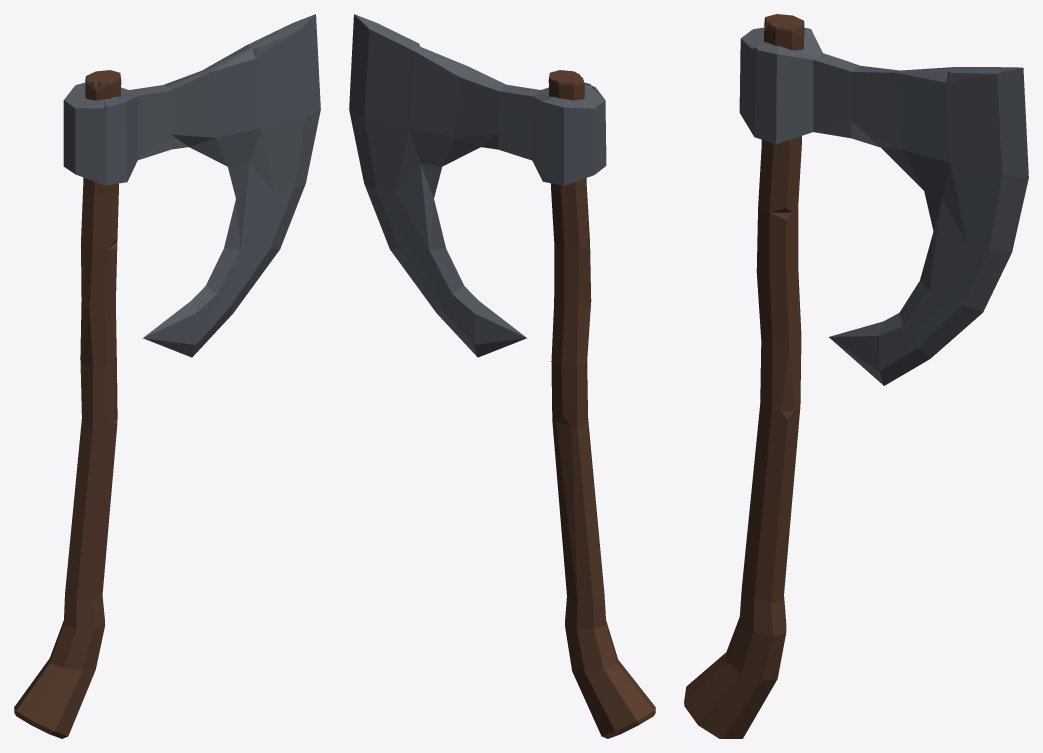
Rendered from Battle_Axe Village.fbx.
3 views of the same model, side by side, from view 1: azimuth 30°, elevation 25°; view 2: azimuth 150°, elevation 25°; view 3: azimuth 330°, elevation 25° (orthographic). The views are drawn at different scales.
Visible parts, largest first — view 1: Battle_Axe; view 2: Battle_Axe; view 3: Battle_Axe.
Boxes of the visible parts, x1=… form: Battle_Axe: x1=14, y1=14, x2=320, y2=738; Battle_Axe: x1=349, y1=14, x2=655, y2=738; Battle_Axe: x1=684, y1=14, x2=1028, y2=738.
Bounding box in the file's own units: 0.4793 × 0.991 × 0.0846.
